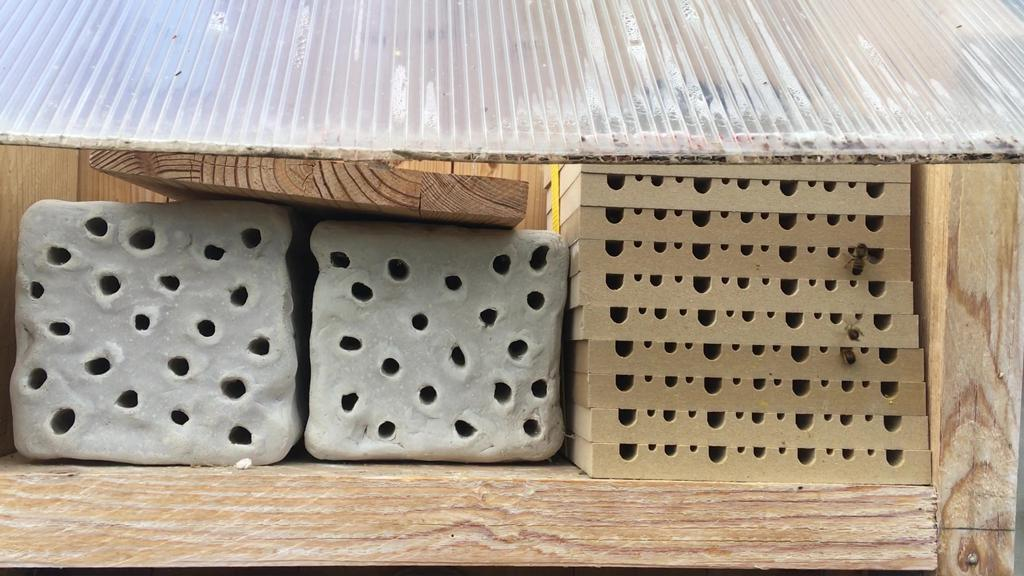bee: (834, 342, 861, 370)
